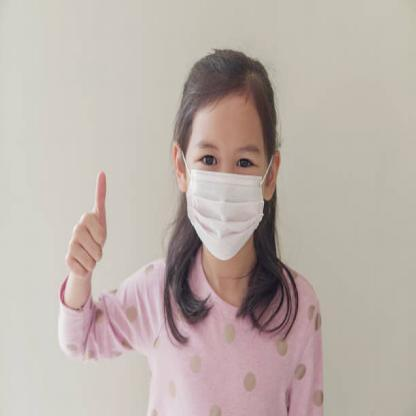thumb_up: (63, 167, 113, 280)
